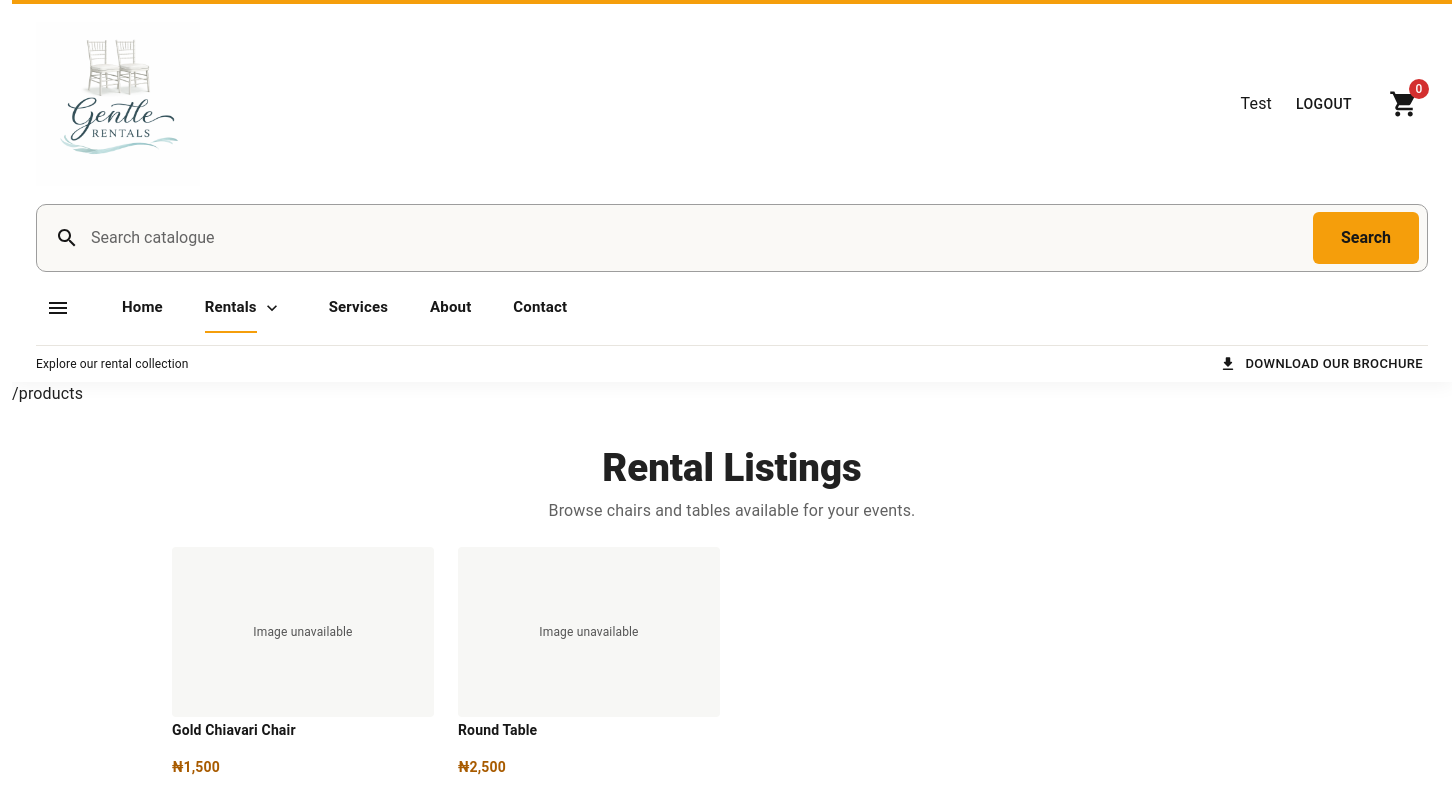
cart count follows query state and the cart link uses the existing route
Expected: the heading "Gold Chiavari Chair" is shown, [172,722,296,738]
Click the link "0". click: x=1409, y=99
box: [1389,79,1429,119]
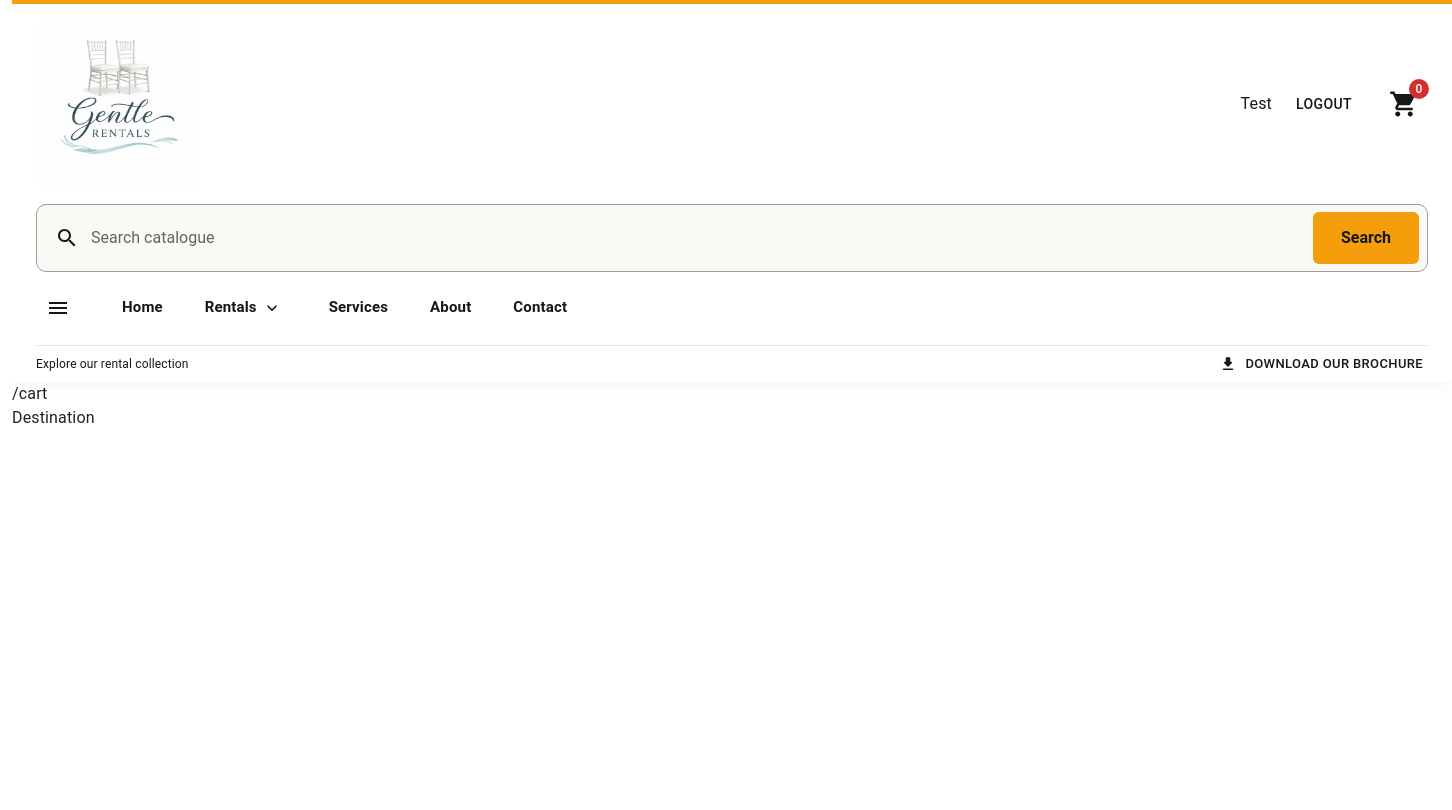
Expected: the text with test id "location" reads "/cart", [12,384,48,403]
